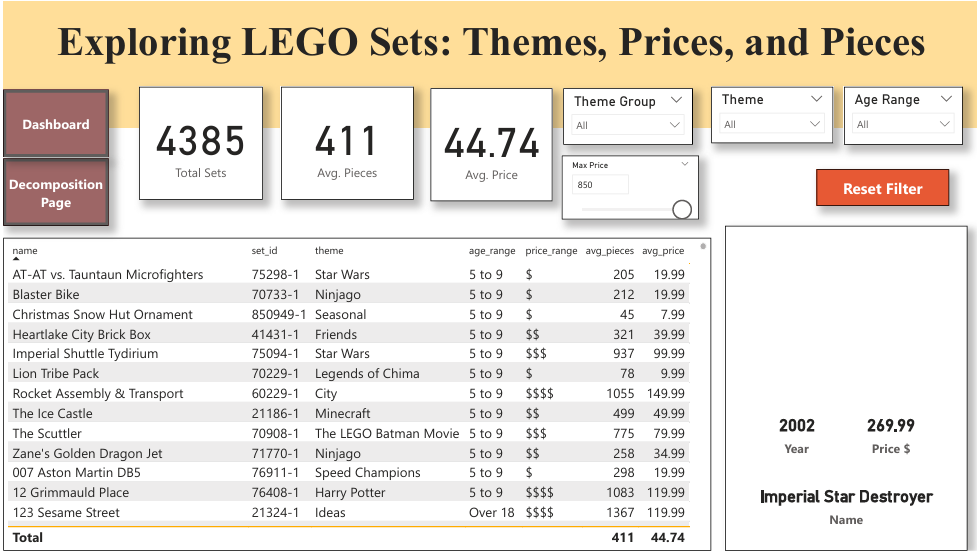

The dashboard page shown, as its layout file describes it:
{"tool":"powerbi","page":{"name":"Dashboard","canvas":[1280,720],"ordinal":0},"visuals":[{"type":"textbox","title":"Title","box":[0,0,1280,166],"z":0},{"type":"card","title":"Total Sets","fields":{"Values":["Lego Dataset.total_sets"]},"box":[178,112,162,148],"z":1000},{"type":"card","title":"Avg piece","fields":{"Values":["Lego Dataset.avg_pieces"]},"box":[364,112,174,148],"z":2000},{"type":"card","title":"Avg price","fields":{"Values":["Lego Dataset.avg_price"]},"box":[560,114,160,148],"z":3000},{"type":"slicer","title":"Theme Grup Filter","fields":{"Values":["Lego Dataset.themeGroup"]},"box":[734,114,170,74],"z":4000},{"type":"slicer","title":"Theme Filter","fields":{"Values":["Lego Dataset.theme"]},"box":[928,112,160,74],"z":5000},{"type":"slicer","title":"Age range Filter","fields":{"Values":["Lego Dataset.age_range"]},"box":[1102,112,156,76],"z":6000},{"type":"tableEx","title":"List lego","fields":{"Values":["Lego Dataset.name","Lego Dataset.set_id","Lego Dataset.theme","Lego Dataset.age_range","Lego Dataset.price_range","Lego Dataset.avg_pieces","Lego Dataset.avg_price"]},"box":[0,310,928,410],"z":7000},{"type":"textbox","title":"Describsion","box":[946,294,318,426],"z":8000},{"type":"card","title":"Name","fields":{"Values":["Lego Dataset.first_set_name"]},"box":[958,612,294,94],"z":9000},{"type":"card","title":"Year","fields":{"Values":["Lego Dataset.first_set_year"]},"box":[978,530,124,70],"z":10000},{"type":"card","title":"Retail Price","fields":{"Values":["Lego Dataset.first_set_price"]},"box":[1102,520,124,92],"z":11000},{"type":"imageDB603108E3FF4EBFB8047F5653368E8C","fields":{"imageUrl":["Lego Dataset.First Set Image"]},"box":[982,326,248,194],"z":12000},{"type":"slicer","fields":{"Values":["max_price.max_price"]},"box":[732,202,180,84],"z":13000},{"type":"actionButton","box":[1066,220,174,48],"z":14000},{"type":"actionButton","box":[0,206,138,88],"z":14001},{"type":"actionButton","box":[0,116,138,88],"z":14002}]}

Visuals, with their boxes in screenshot pixels (x1, y1, x2, y2), scaled from the page's 1280x720 canvas onto the 977x557 screenshot:
"Title" textbox: (0, 0, 976, 128)
"Total Sets" card: (136, 87, 260, 201)
"Avg piece" card: (278, 87, 411, 201)
"Avg price" card: (427, 88, 550, 203)
"Theme Grup Filter" slicer: (560, 88, 690, 145)
"Theme Filter" slicer: (708, 87, 830, 144)
"Age range Filter" slicer: (841, 87, 960, 145)
"List lego" tableEx: (0, 240, 708, 556)
"Describsion" textbox: (722, 227, 965, 556)
"Name" card: (731, 473, 956, 546)
"Year" card: (746, 410, 841, 464)
"Retail Price" card: (841, 402, 936, 473)
imageDB603108E3FF4EBFB8047F5653368E8C - Lego Dataset.First Set Image: (750, 252, 939, 402)
slicer - max_price.max_price: (559, 156, 696, 221)
actionButton: (814, 170, 946, 207)
actionButton: (0, 159, 105, 227)
actionButton: (0, 90, 105, 158)
